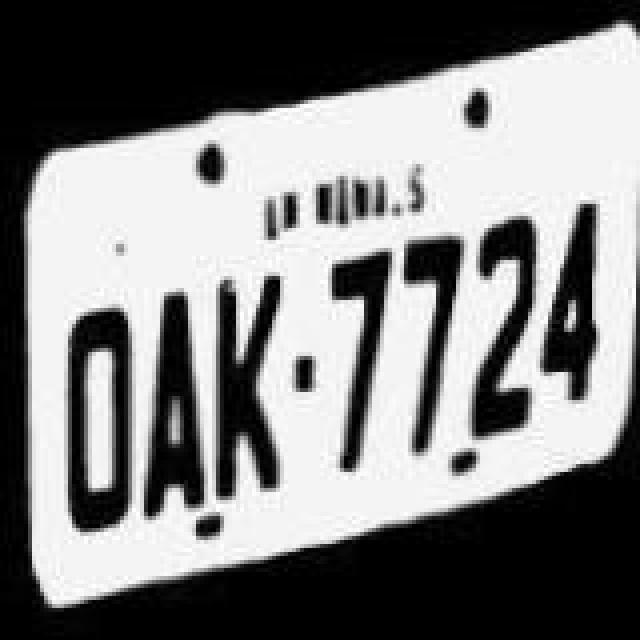2: (458, 204, 542, 448)
4: (532, 186, 612, 434)
7: (320, 244, 408, 476), (390, 232, 474, 460)
A: (132, 284, 208, 524)
K: (204, 262, 288, 514)
O: (50, 296, 138, 540)
